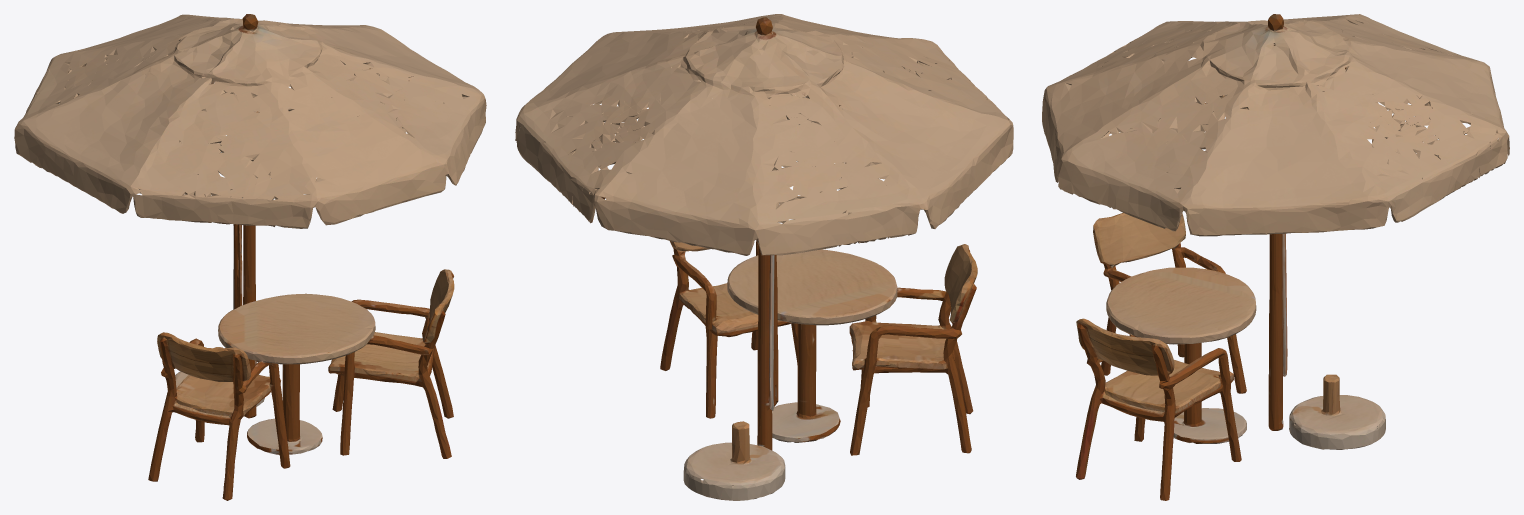
The model's file is room-10-parasol-set.glb.
3 renders of one model, left to right at view 1: azimuth 30°, elevation 25°; view 2: azimuth 150°, elevation 25°; view 3: azimuth 270°, elevation 25°, orthographic. The views are drawn at different scales.
Visible parts, largest first — view 1: textured_mesh.obj; view 2: textured_mesh.obj; view 3: textured_mesh.obj.
Part boxes in pixels (x1,y1,x2,y2): textured_mesh.obj: (14, 14, 486, 500); textured_mesh.obj: (515, 14, 1013, 500); textured_mesh.obj: (1042, 14, 1509, 500).
Size of the model in its own units: 2.43 by 2.4 by 2.44.
Materials: 1 (1 with a texture image).
